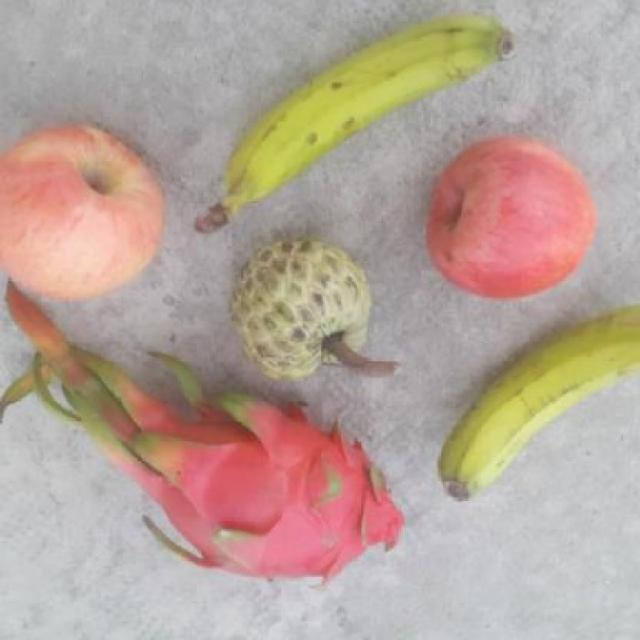apple: (0, 113, 172, 304), (422, 131, 608, 304)
banana: (187, 11, 518, 238), (433, 307, 639, 504)
dragon fruit: (125, 393, 410, 599)
sugar apple: (229, 233, 389, 382)
